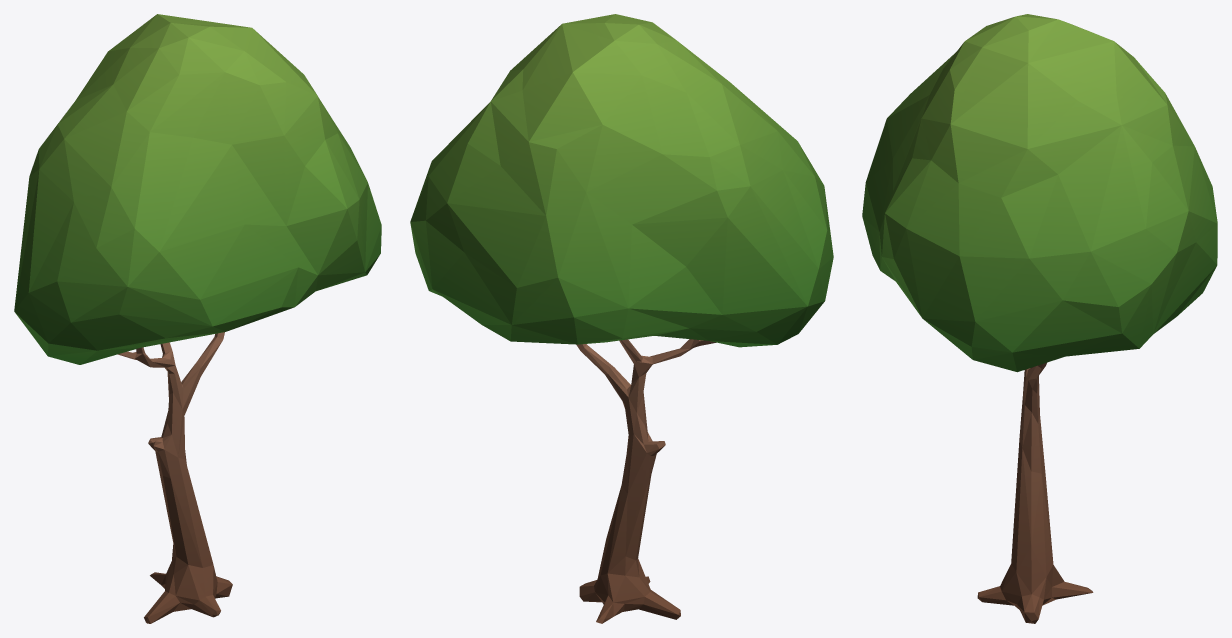
Rendered from SM_Nature_Tree_09.fbx.
3 renders of one model, left to right at view 1: azimuth 30°, elevation 25°; view 2: azimuth 150°, elevation 25°; view 3: azimuth 270°, elevation 25°, orthographic.
Visible parts, largest first — view 1: SM_Nature_Tree_09_LOD0; view 2: SM_Nature_Tree_09_LOD0; view 3: SM_Nature_Tree_09_LOD0.
Boxes of the visible parts, x1,y1,x2,y2 form: SM_Nature_Tree_09_LOD0: (14, 14, 381, 623); SM_Nature_Tree_09_LOD0: (410, 14, 833, 623); SM_Nature_Tree_09_LOD0: (862, 14, 1217, 623).
Size of the model in its own units: 1063 by 1658 by 909.
